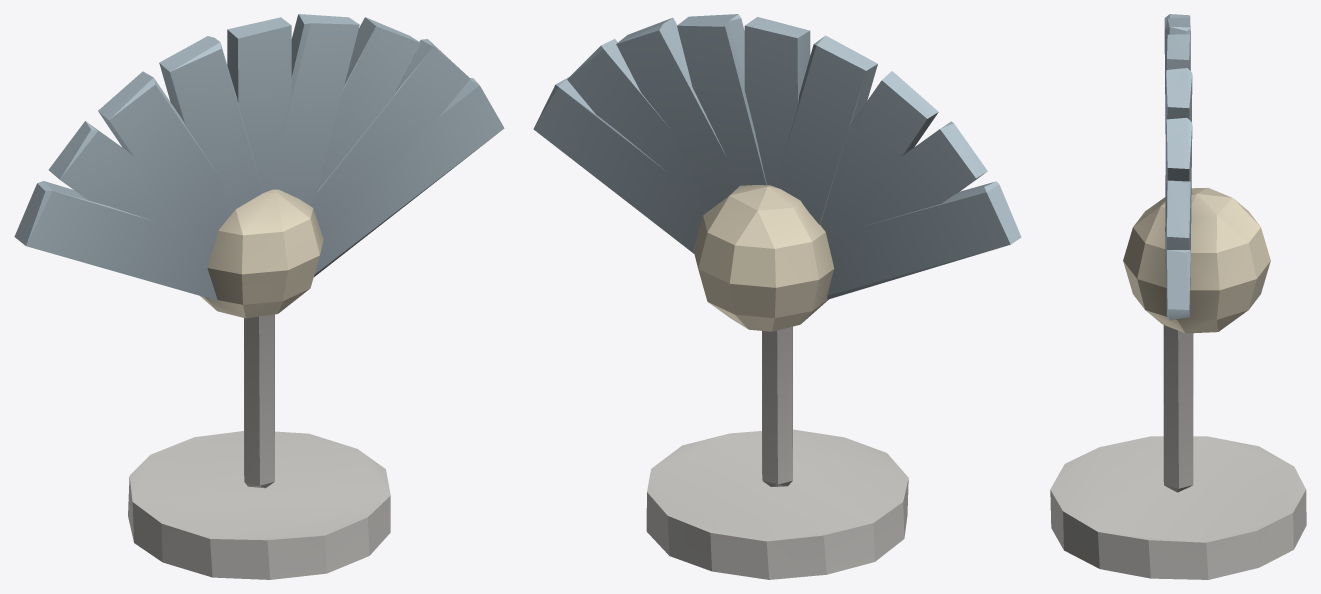
The model's file is furn_shell_lamp__sky_low.glb.
The picture shows the model from 3 angles, left to right: view 1: azimuth 30°, elevation 25°; view 2: azimuth 150°, elevation 25°; view 3: azimuth 270°, elevation 25°; orthographic projection. The views are drawn at different scales.
Size of the model in its own units: 0.5773 by 0.5745 by 0.2774.
